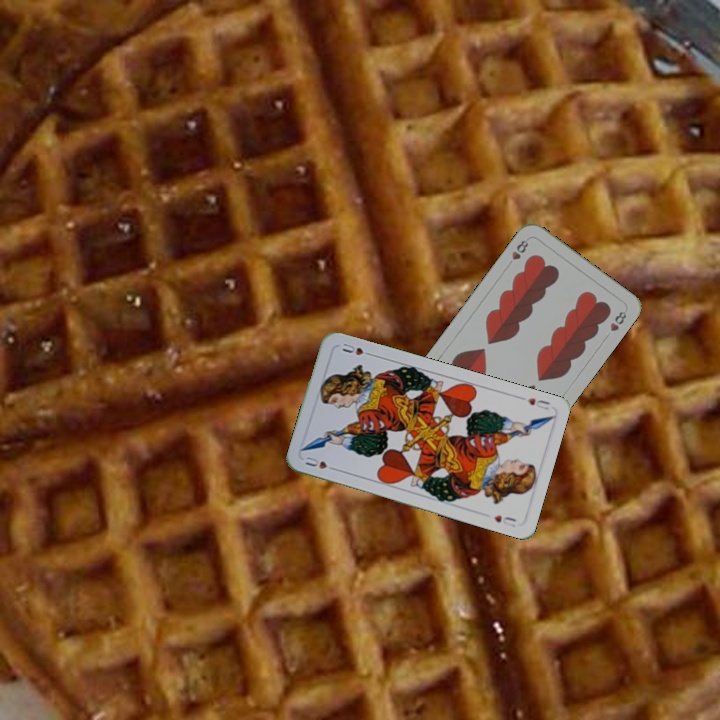H8: (503, 236, 531, 270)
HU: (301, 453, 340, 472), (523, 394, 552, 412)
